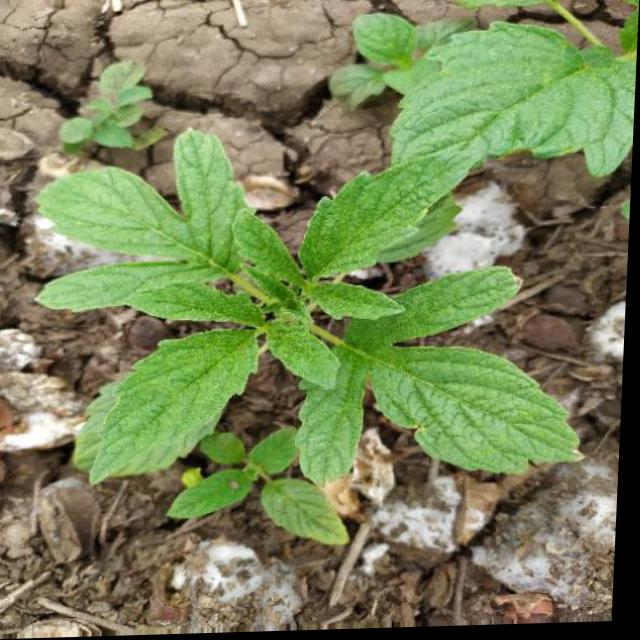crop: (32, 0, 612, 507)
